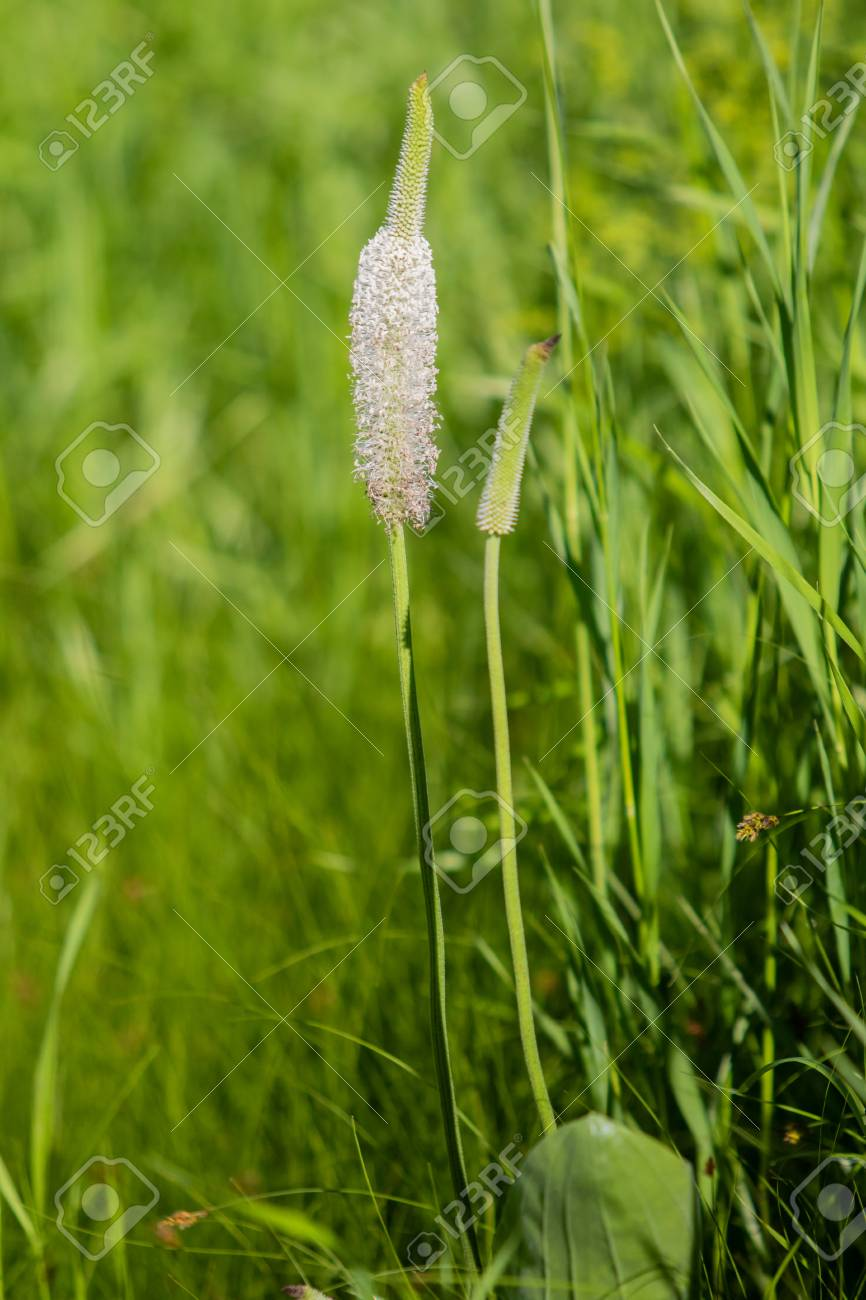buckhorn plantain: (358, 50, 569, 1052)
